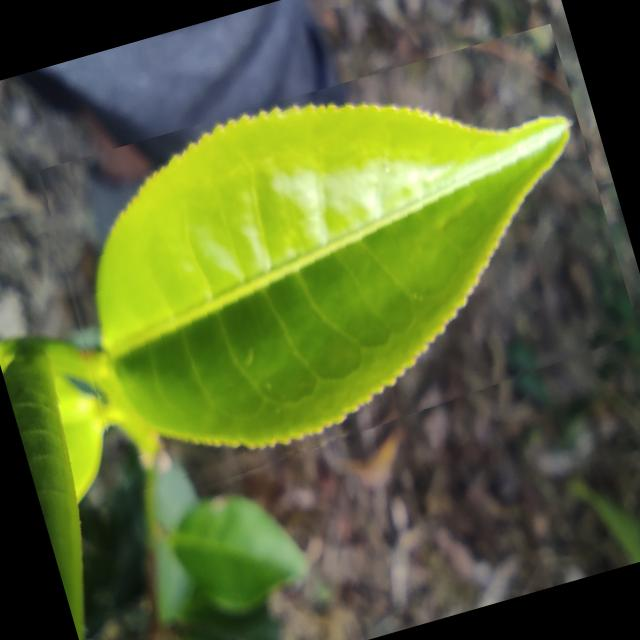Category B(2-4 days): (28, 22, 640, 513)
